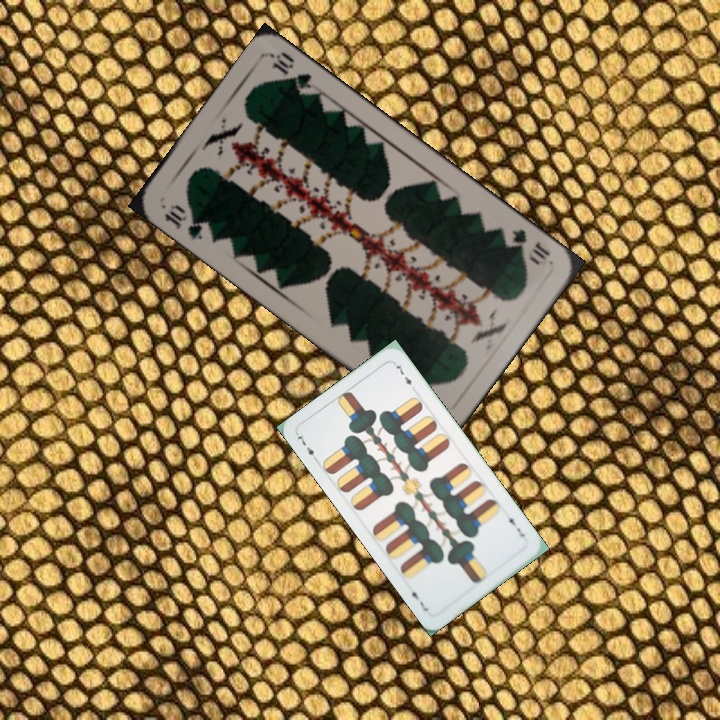E7: (293, 429, 321, 465), (504, 509, 527, 540)
G10: (160, 199, 214, 243), (507, 224, 553, 263)
